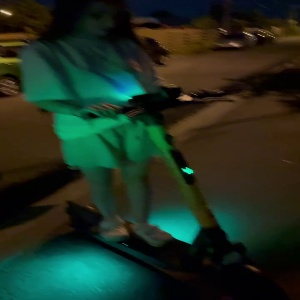human on a scooter: (9, 1, 271, 296)
